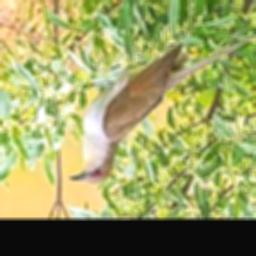Cuckoo: (68, 28, 256, 184)
